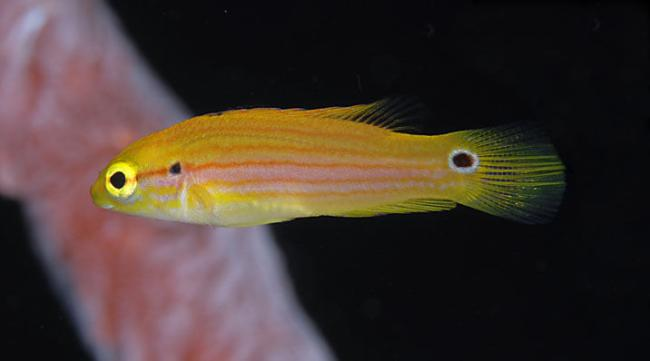fish: (91, 101, 565, 228)
